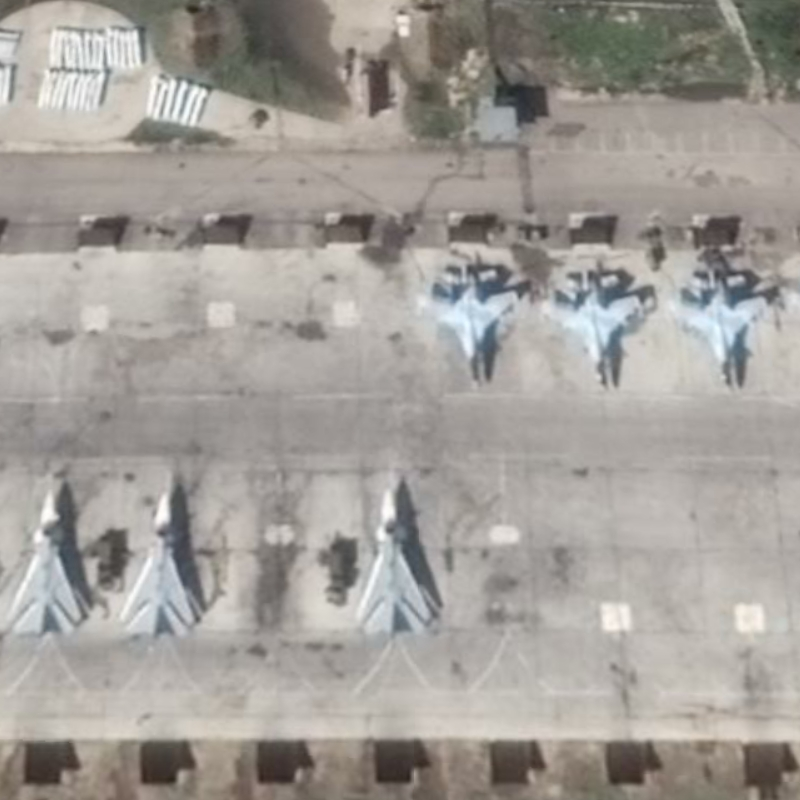A1: (423, 259, 524, 392), (547, 261, 649, 391), (671, 264, 773, 394)
A20: (350, 485, 435, 641), (115, 486, 198, 641), (3, 486, 86, 641)
